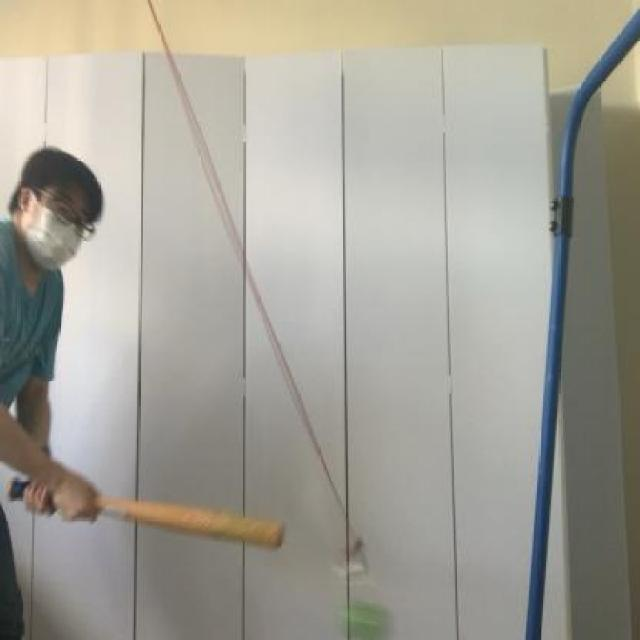baseball: (324, 583, 394, 640)
